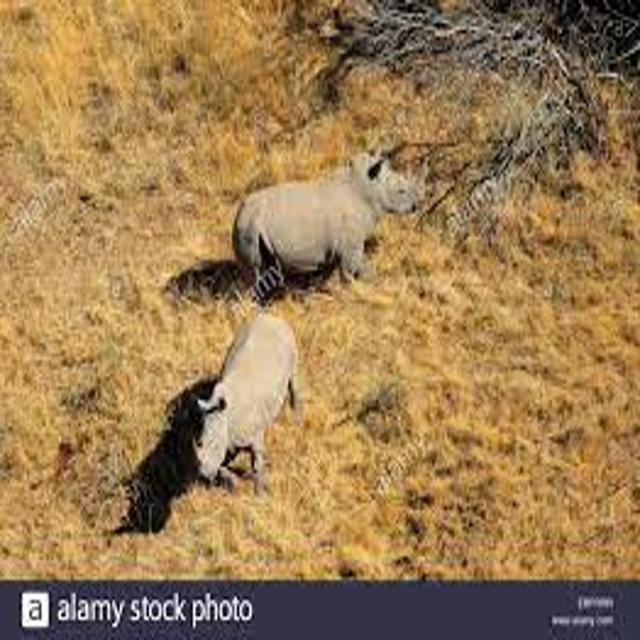rhino: (202, 117, 463, 317), (151, 288, 358, 513)
